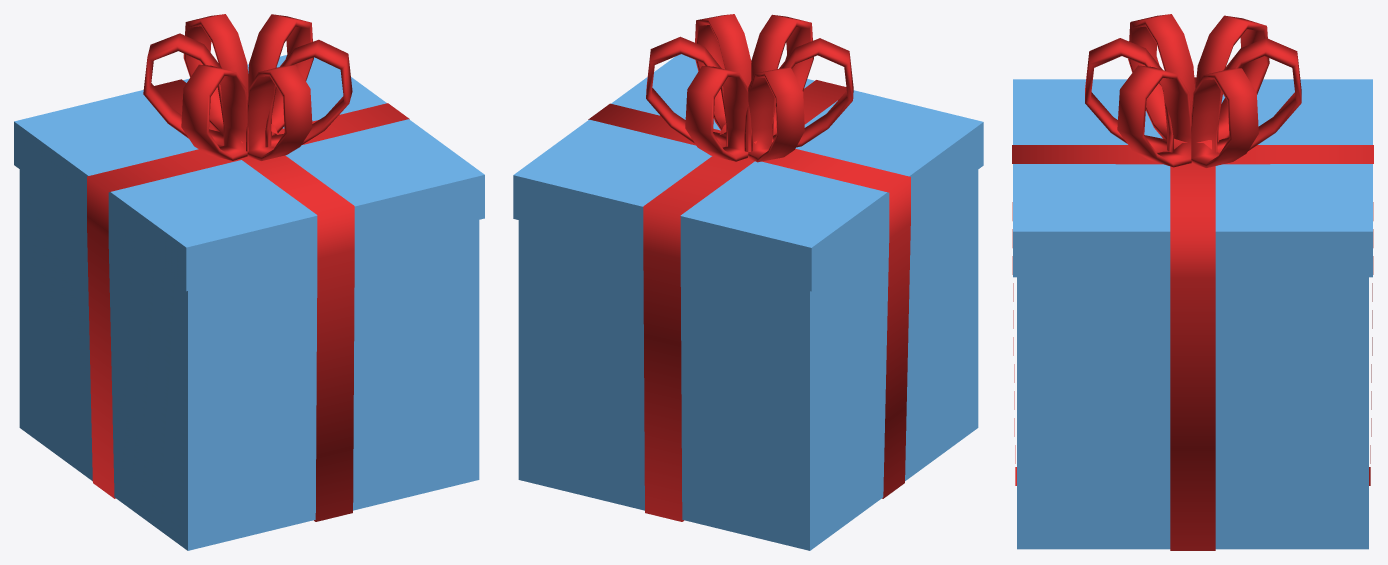
File: preboxrib08270112blue.fbx
The picture shows the model from 3 angles, left to right: view 1: azimuth 30°, elevation 25°; view 2: azimuth 150°, elevation 25°; view 3: azimuth 270°, elevation 25°; orthographic projection. The views are drawn at different scales.
Parts seen in each view (by area): view 1: Cube, 平面; view 2: Cube, 平面; view 3: Cube, 平面.
Boxes of the visible parts, bbox=[...] form: Cube: bbox=[14, 55, 484, 550]; 平面: bbox=[87, 14, 409, 521]; Cube: bbox=[513, 54, 983, 550]; 平面: bbox=[588, 14, 910, 521]; Cube: bbox=[1013, 79, 1372, 549]; 平面: bbox=[1012, 14, 1373, 550].
Bounding box in the file's own units: 2.07 × 2.71 × 2.06.
